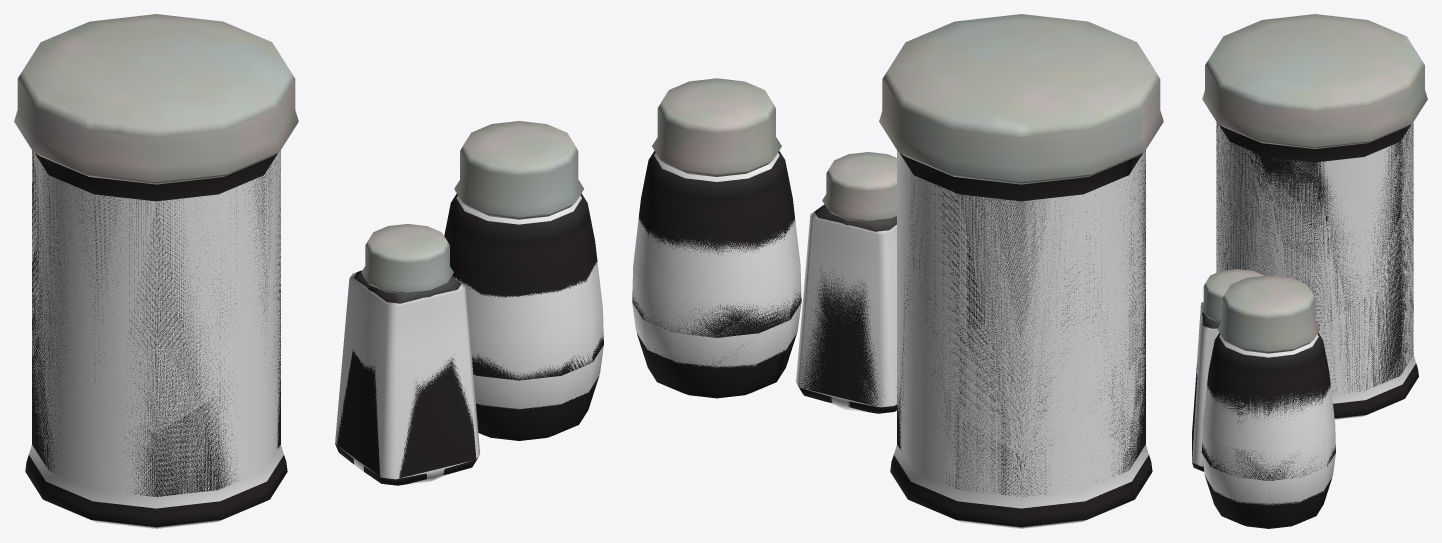
File: sm24_012_seasoning01a.fbx
3 renders of one model, left to right at view 1: azimuth 30°, elevation 25°; view 2: azimuth 150°, elevation 25°; view 3: azimuth 270°, elevation 25°, orthographic. The views are drawn at different scales.
Visible parts, largest first — view 1: LOD_1_Group_0_Sub_1__sm24_012_Seasoning01A_A_Mat, LOD_1_Group_0_Sub_2__sm24_012_Seasoning01A_B_Mat; view 2: LOD_1_Group_0_Sub_1__sm24_012_Seasoning01A_A_Mat, LOD_1_Group_0_Sub_2__sm24_012_Seasoning01A_B_Mat; view 3: LOD_1_Group_0_Sub_1__sm24_012_Seasoning01A_A_Mat, LOD_1_Group_0_Sub_2__sm24_012_Seasoning01A_B_Mat.
Part boxes in pixels (box(x1,y1,x2,y2)): LOD_1_Group_0_Sub_1__sm24_012_Seasoning01A_A_Mat: box(14, 14, 603, 528); LOD_1_Group_0_Sub_2__sm24_012_Seasoning01A_B_Mat: box(25, 151, 603, 528); LOD_1_Group_0_Sub_1__sm24_012_Seasoning01A_A_Mat: box(632, 14, 1163, 528); LOD_1_Group_0_Sub_2__sm24_012_Seasoning01A_B_Mat: box(632, 150, 1152, 528); LOD_1_Group_0_Sub_1__sm24_012_Seasoning01A_A_Mat: box(1192, 14, 1427, 505); LOD_1_Group_0_Sub_2__sm24_012_Seasoning01A_B_Mat: box(1192, 123, 1418, 528).
Bounding box in the file's own units: 0.2991 × 0.2279 × 0.1453.
